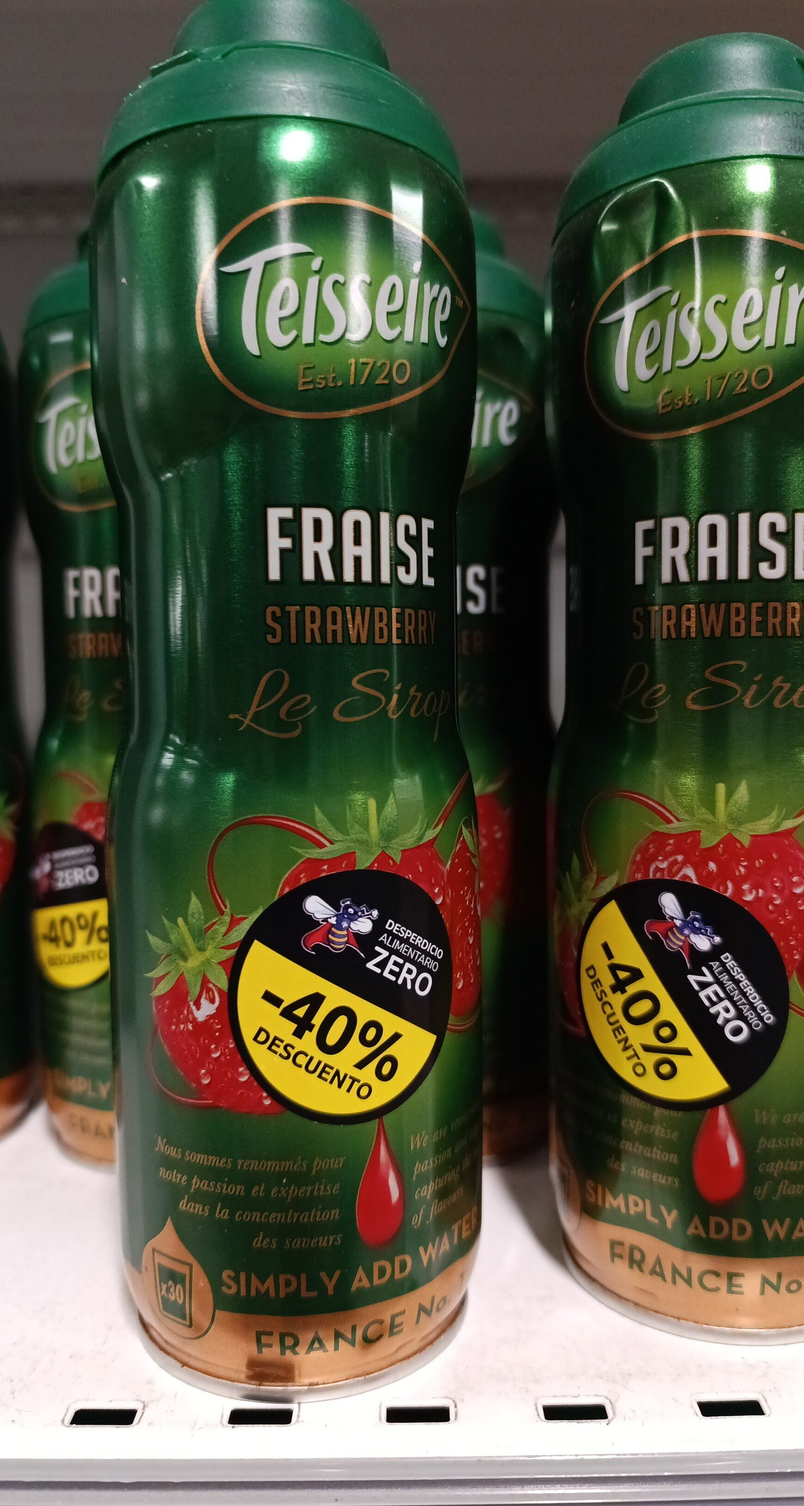Sirop de fraise: (40, 75, 764, 1431)
